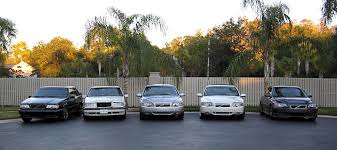car: (18, 85, 82, 121), (258, 84, 319, 121), (82, 84, 127, 120), (138, 84, 185, 118), (199, 83, 245, 117)
